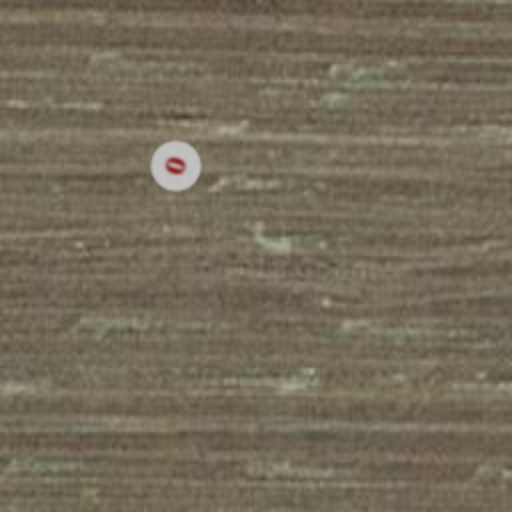circle: (144, 134, 208, 198)
